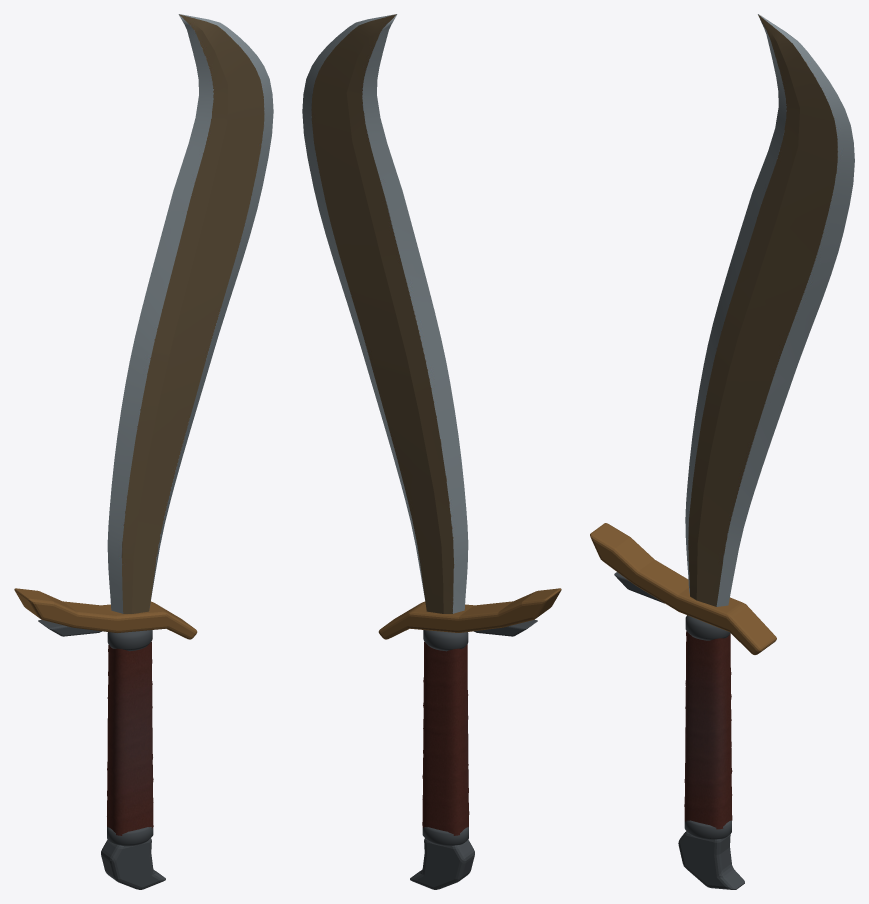
Rendered from phoenix_talon.glb.
The picture shows the model from 3 angles, left to right: view 1: azimuth 30°, elevation 25°; view 2: azimuth 150°, elevation 25°; view 3: azimuth 330°, elevation 25°; orthographic projection. The views are drawn at different scales.
Parts seen in each view (by area): view 1: phoenix_talon_Baked.001 export; view 2: phoenix_talon_Baked.001 export; view 3: phoenix_talon_Baked.001 export.
Part boxes in pixels (x1,y1,x2,y2): phoenix_talon_Baked.001 export: [14, 14, 273, 889]; phoenix_talon_Baked.001 export: [302, 14, 561, 889]; phoenix_talon_Baked.001 export: [590, 14, 854, 889].
Bounding box in the file's own units: 0.3096 × 1.01 × 0.0411.
1 material, 1 textured.
